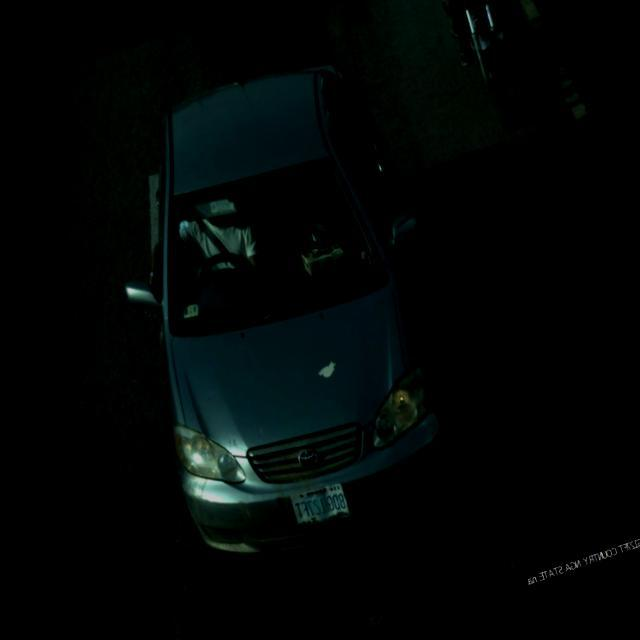windshield: (120, 154, 419, 352)
